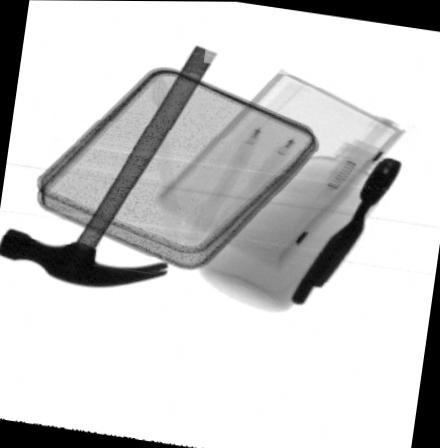Hammer: (0, 46, 218, 289)
Pliers: (290, 157, 402, 306)
